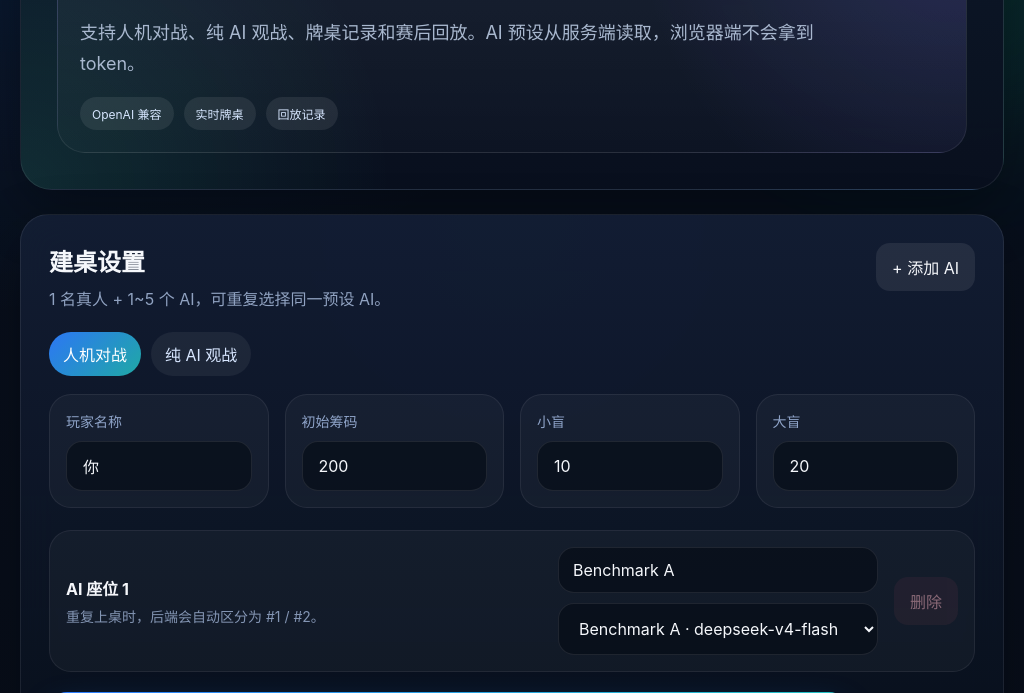
App flow › numbers every duplicate AI seat as #1 / #2 when only one preset is available
(page scrolled)
expect the heading "建桌设置" is shown: met, box [49,248,145,277]
Click the button "纯 AI 观战": (201,354) [151,332,251,376]
(page scrolled)
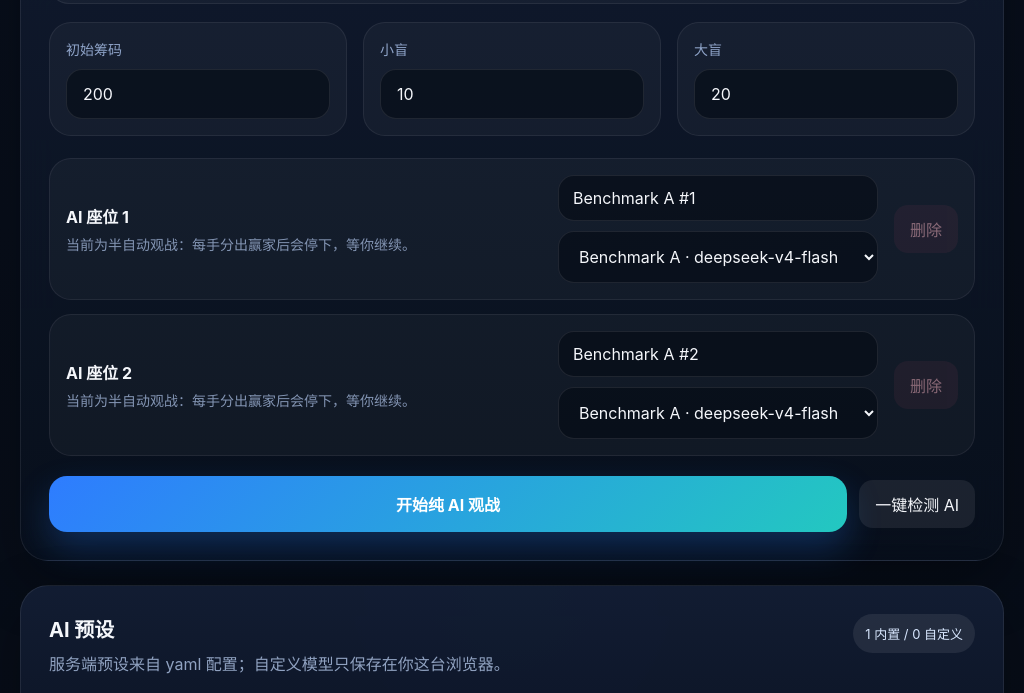
expect the 1st field showing "Benchmark A #1" is shown: met, box [558,175,878,221]
expect the 2nd field showing "Benchmark A #2" is shown: met, box [558,331,878,377]
